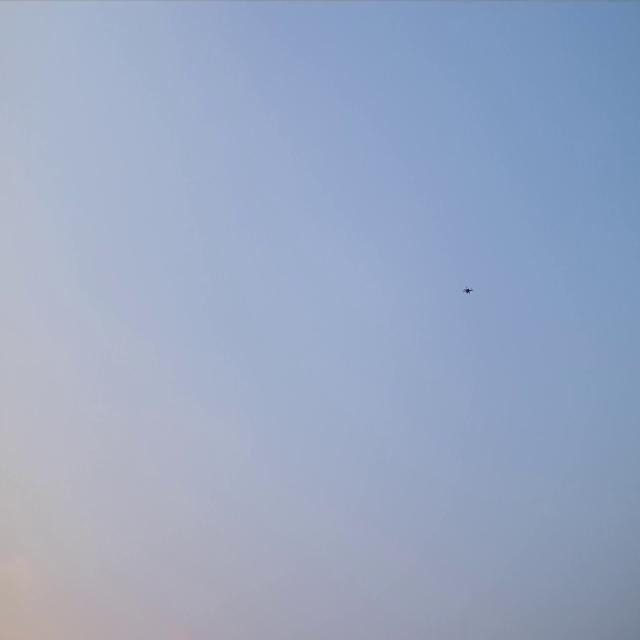UAV: (462, 286, 473, 295)
